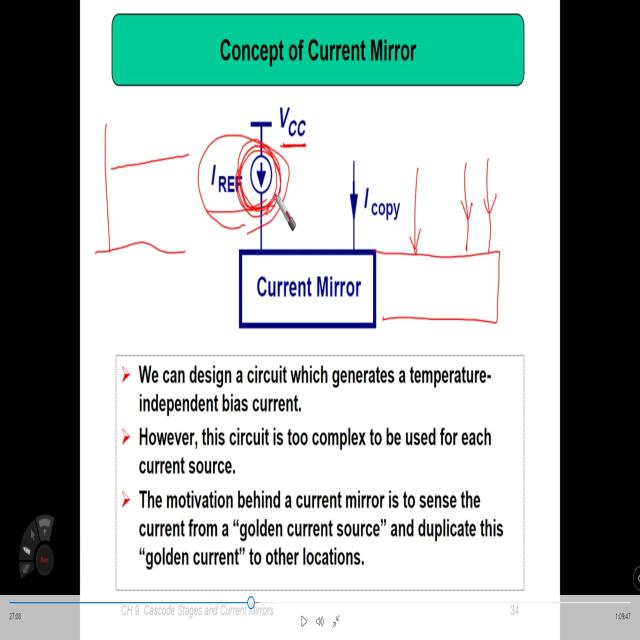panseo: (372, 163, 512, 332), (97, 110, 197, 278)
